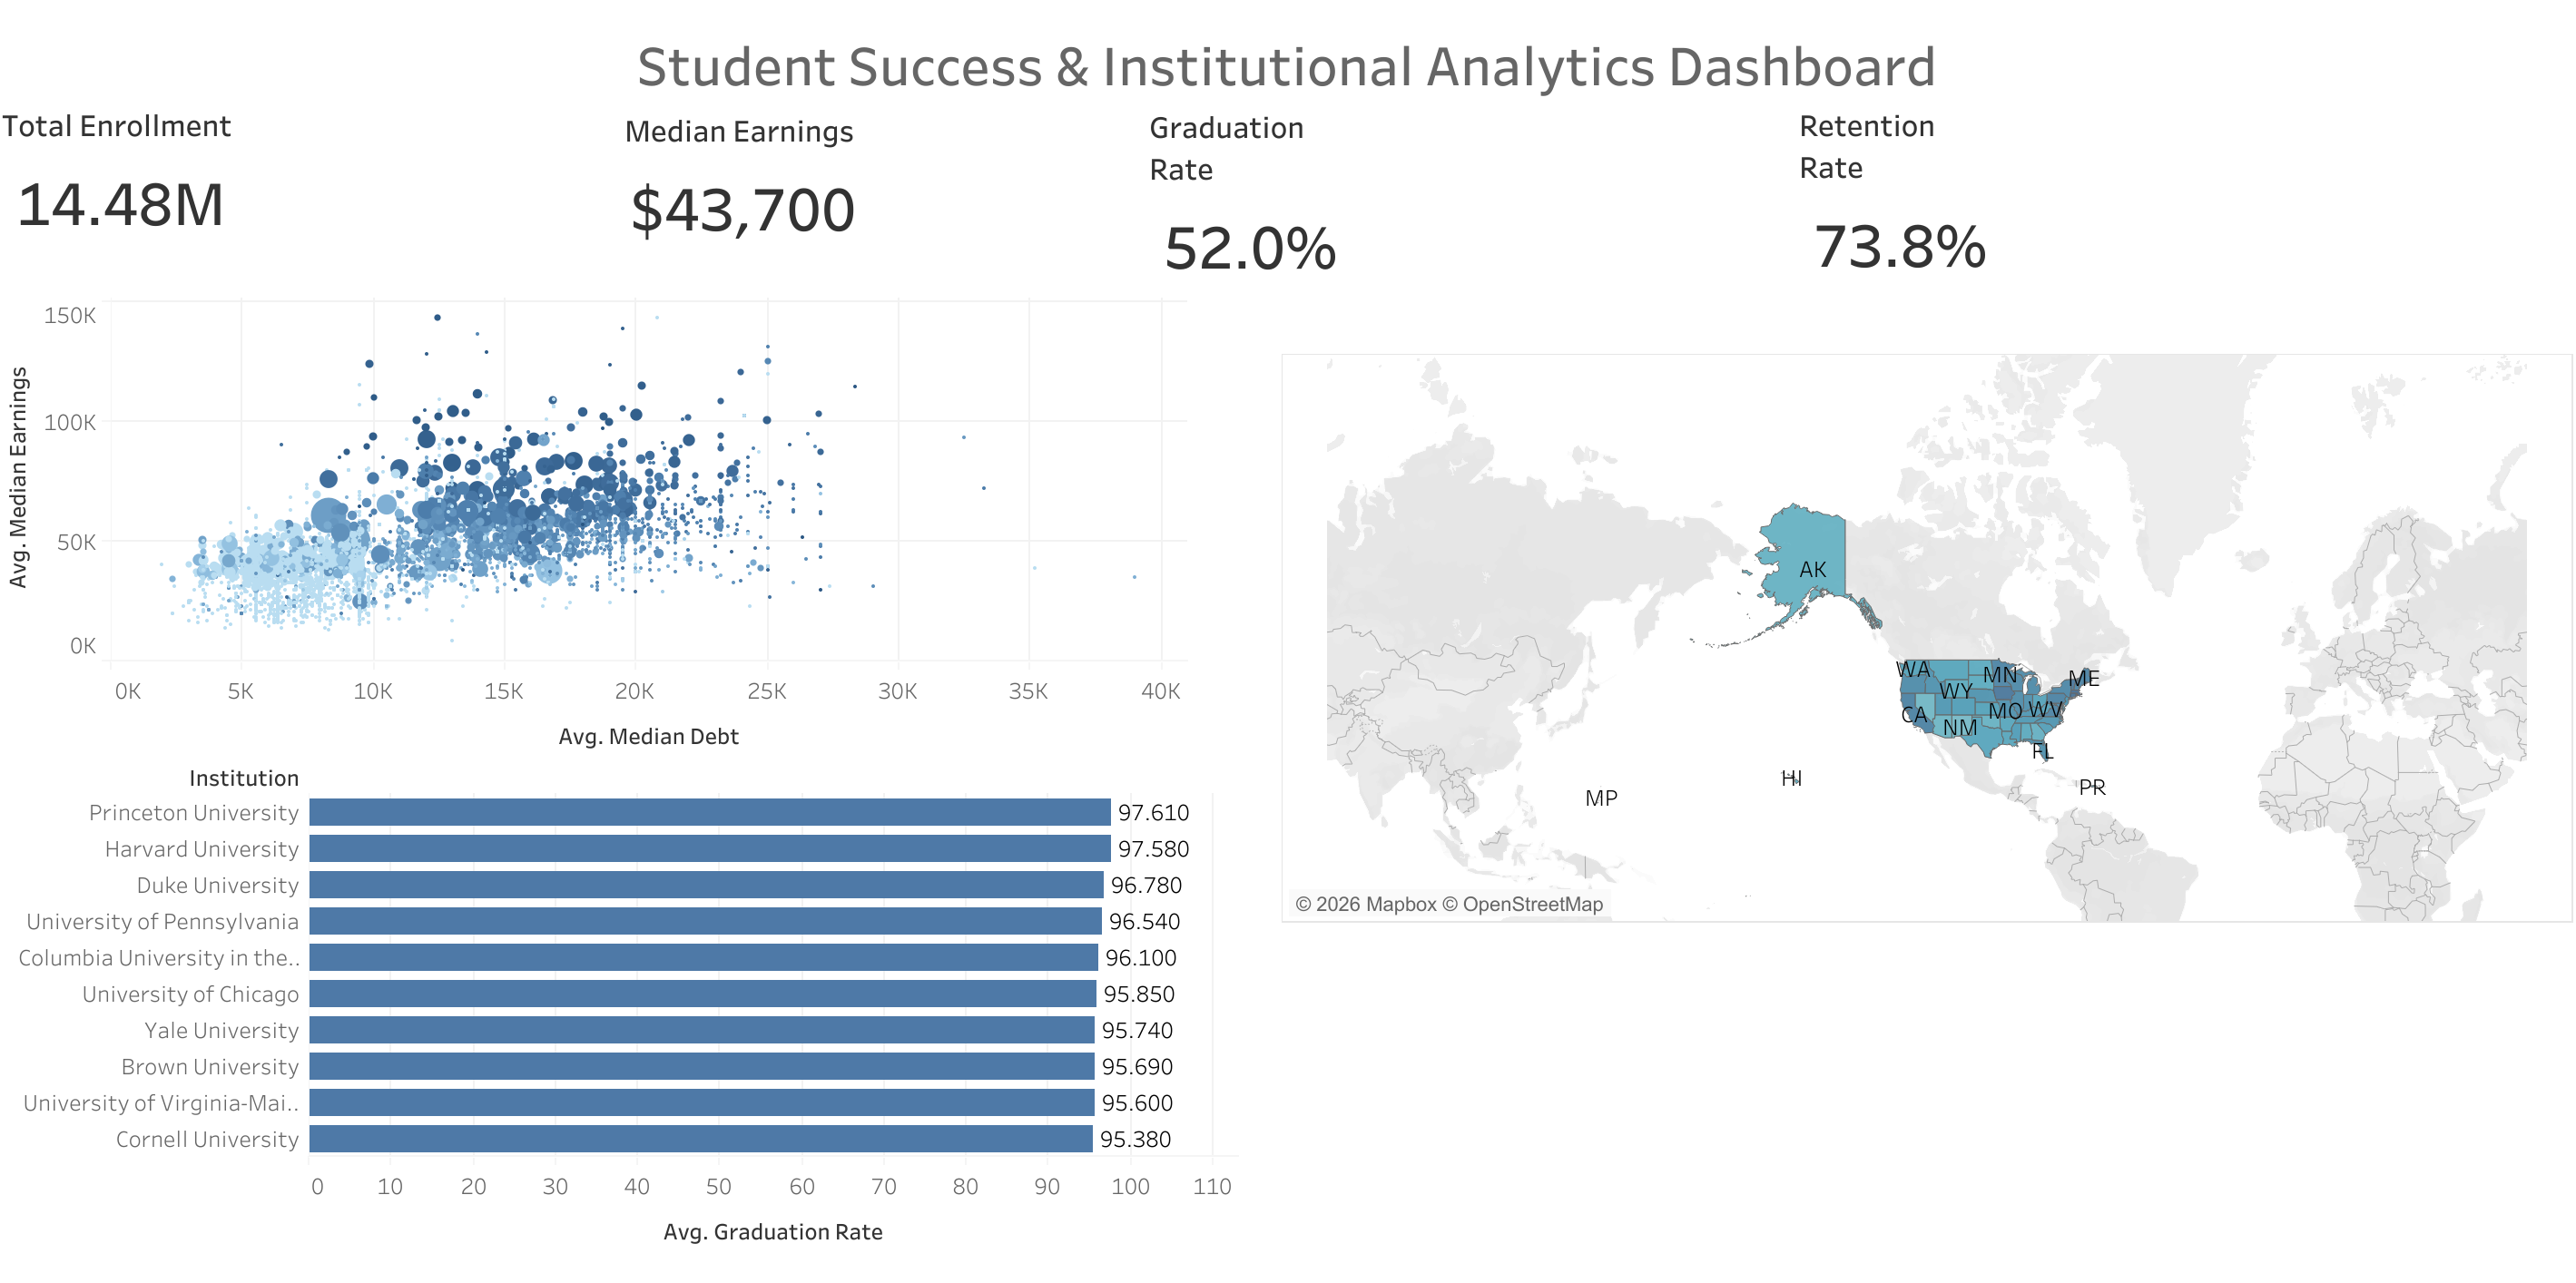

The page's visual inventory and layout, read from the dashboard file:
{"tool":"tableau","page":{"name":"Student Success Dashboard","canvas":[1000,1000],"units":"permille","ordinal":0},"visuals":[{"type":"worksheet","title":"Graduation Rate","mark":"Automatic","box":[443.5,72.2,332.8,332.8]},{"type":"worksheet","title":"Median Earnings","mark":"Automatic","box":[242.2,81,335.2,332.8]},{"type":"worksheet","title":"State-wise Graduation Rate","mark":"Automatic","box":[497.2,275.4,501.2,443.3]},{"type":"filter","title":"Top 10 Universities by Graduation Rate","param":"[federated.1dj8wpl07dlz6n1h3d8js1n8a2w2].[none:Institution:nk]","box":[358.5,441.8,128.3,69.2]},{"type":"worksheet","title":"Top 10 Universities by Graduation Rate","mark":"Automatic","rows":["Institution"],"cols":["Graduation_Rate"],"box":[7.2,589.1,473.1,412.4]}]}

Visuals, with their boxes on the dashboard's canvas, which has no fixed pixel size, in thousandths of its width and height (x1, y1, x2, y2). These are canvas units, not pixel positions in the 2576x1283 screenshot, which may show the page scaled, cropped or inside an application window:
"Graduation Rate" worksheet: (444, 72, 776, 405)
"Median Earnings" worksheet: (242, 81, 577, 414)
"State-wise Graduation Rate" worksheet: (497, 275, 998, 719)
"Top 10 Universities by Graduation Rate" filter: (358, 442, 487, 511)
"Top 10 Universities by Graduation Rate" worksheet: (7, 589, 480, 1002)
